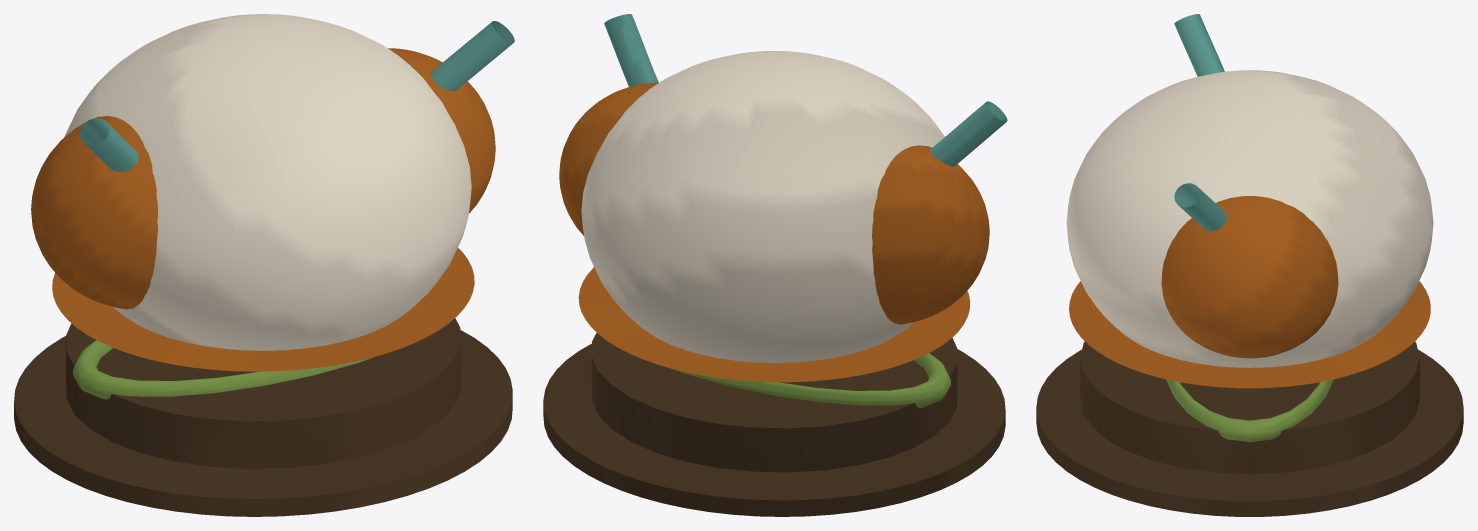
File: 0189_人体图鉴_膀胱.glb
3 renders of one model, left to right at view 1: azimuth 30°, elevation 25°; view 2: azimuth 150°, elevation 25°; view 3: azimuth 270°, elevation 25°, orthographic. The views are drawn at different scales.
Visible parts, largest first — view 1: card_0189; view 2: card_0189; view 3: card_0189.
Boxes of the visible parts, left/top/right/bottom form: card_0189: left=14, top=14, right=514, bottom=516; card_0189: left=543, top=14, right=1007, bottom=516; card_0189: left=1036, top=14, right=1463, bottom=516.
Bounding box in the file's own units: 1.22 × 1 × 1.17.
